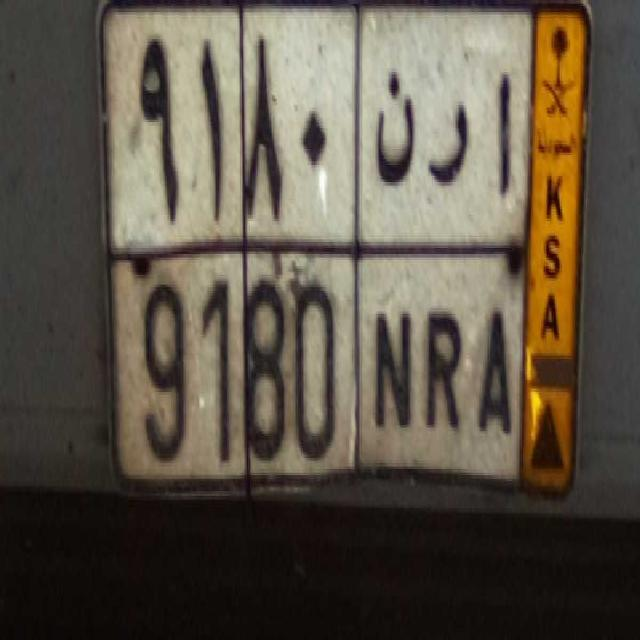license_plate: (108, 254, 522, 488)
